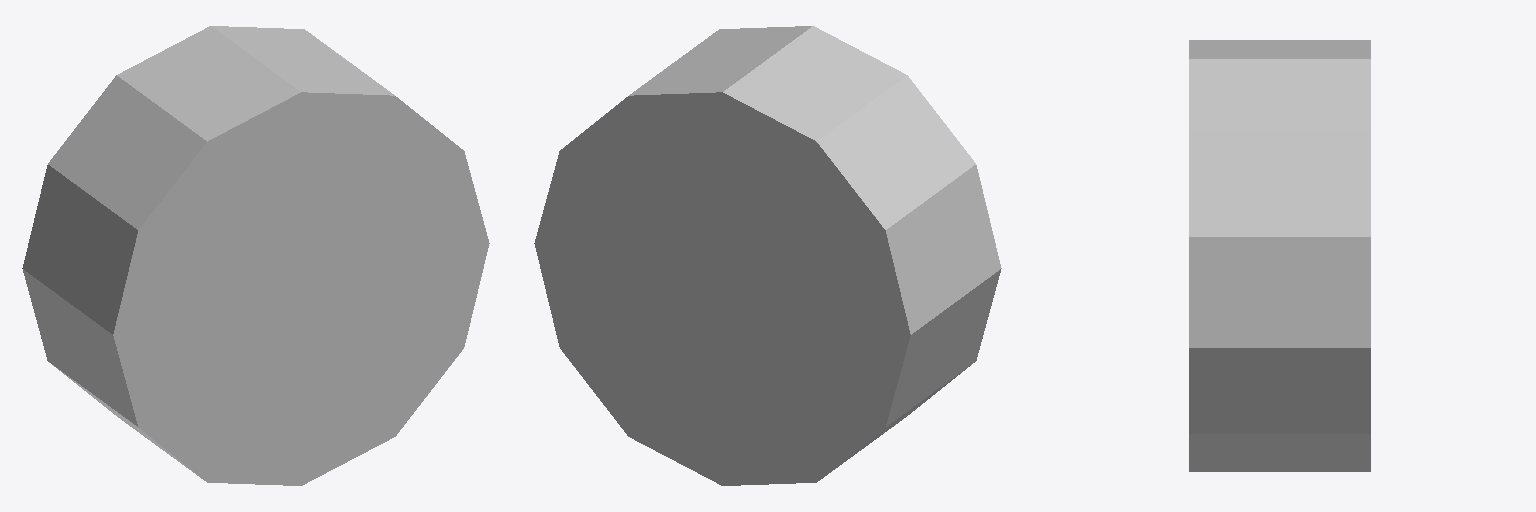
File: reifen.obj
3 renders of one model, left to right at view 1: azimuth 30°, elevation 25°; view 2: azimuth 150°, elevation 25°; view 3: azimuth 270°, elevation 25°, orthographic.
Visible parts, largest first — view 1: Cylinder; view 2: Cylinder; view 3: Cylinder.
Boxes of the visible parts, x1=… form: Cylinder: x1=22, y1=26, x2=489, y2=485; Cylinder: x1=534, y1=26, x2=1001, y2=485; Cylinder: x1=1189, y1=40, x2=1370, y2=471.
Size of the model in its own units: 75.72 by 75.72 by 31.63.